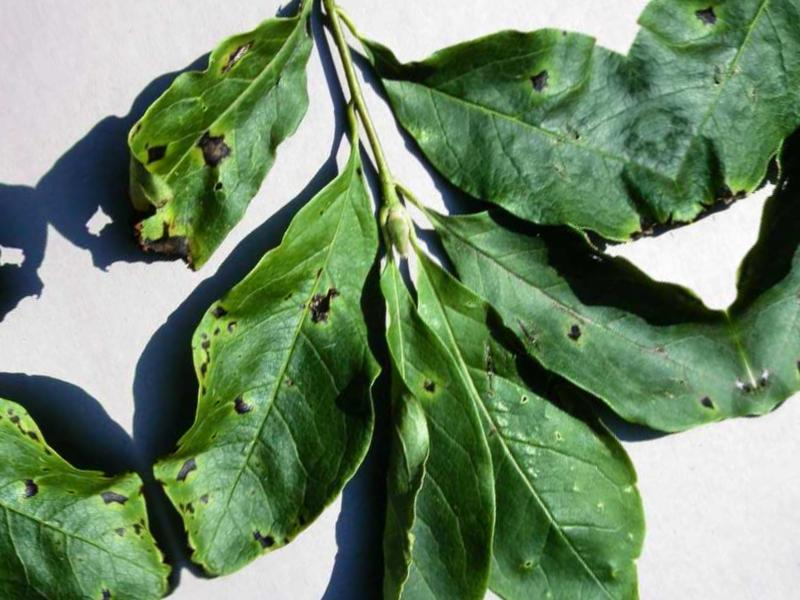Tomato leaf bacterial spot: (73, 152, 492, 587), (401, 93, 762, 504), (215, 256, 569, 600), (51, 0, 376, 286)
